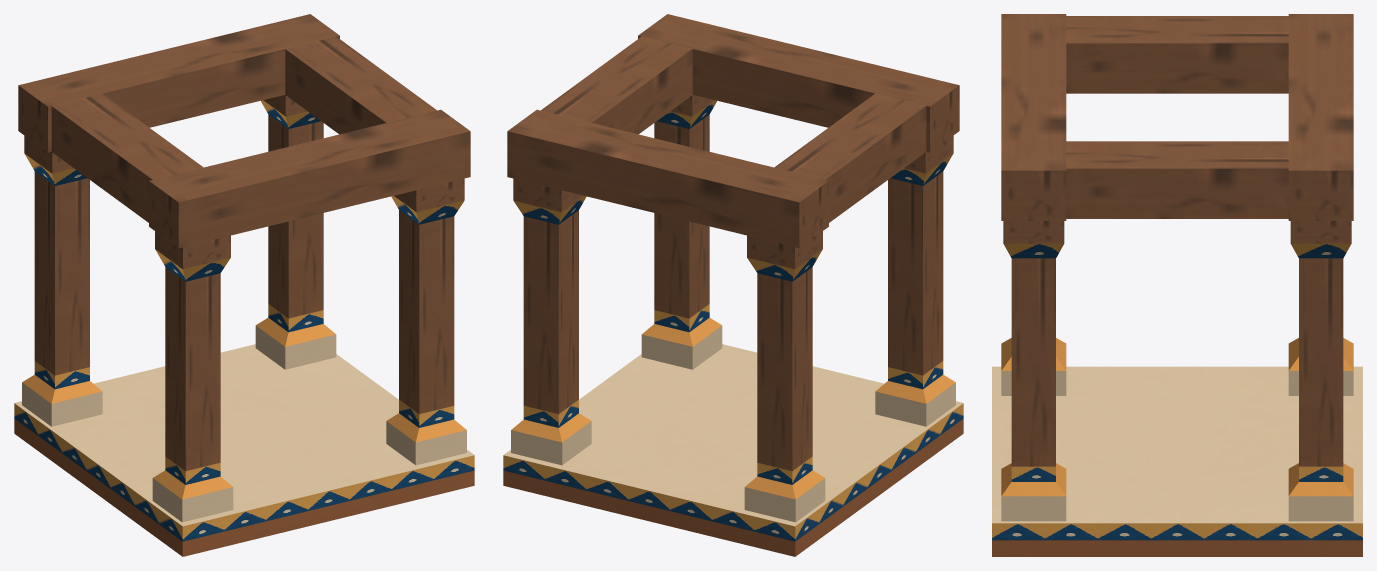
File: rc_wa_veranda_section_4m.glb
3 renders of one model, left to right at view 1: azimuth 30°, elevation 25°; view 2: azimuth 150°, elevation 25°; view 3: azimuth 270°, elevation 25°, orthographic. The views are drawn at different scales.
Parts seen in each view (by area): view 1: SM_RC_WA_VerandaSection_4m; view 2: SM_RC_WA_VerandaSection_4m; view 3: SM_RC_WA_VerandaSection_4m.
Boxes of the visible parts, bbox=[...] form: SM_RC_WA_VerandaSection_4m: bbox=[14, 14, 474, 556]; SM_RC_WA_VerandaSection_4m: bbox=[503, 14, 963, 556]; SM_RC_WA_VerandaSection_4m: bbox=[992, 14, 1362, 556].
Size of the model in its own units: 4 by 4.6 by 4.
Materials: 1 (1 with a texture image).
